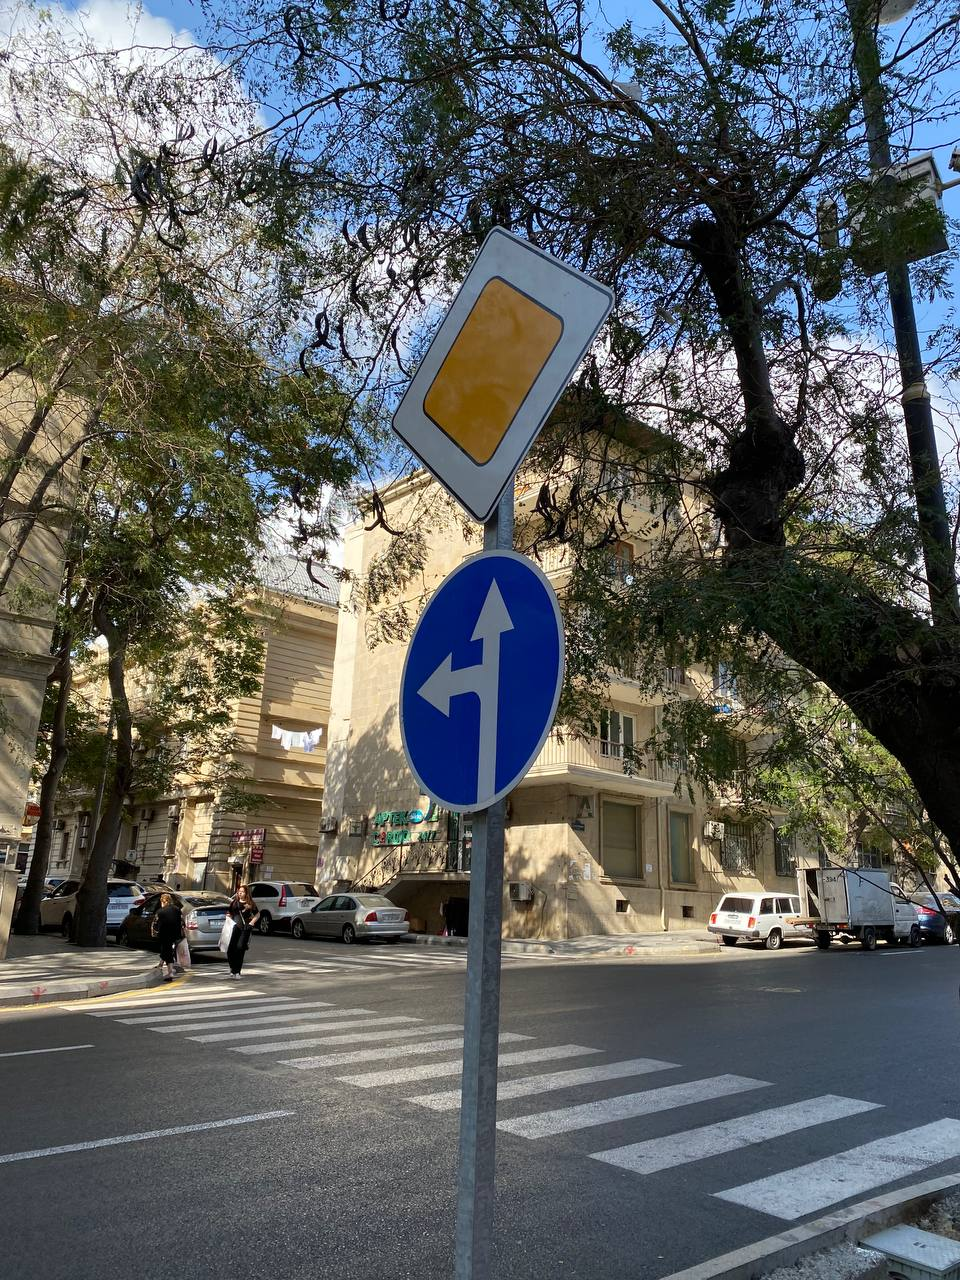Main Road: (391, 226, 612, 523)
Straight or Left: (399, 550, 564, 813)
